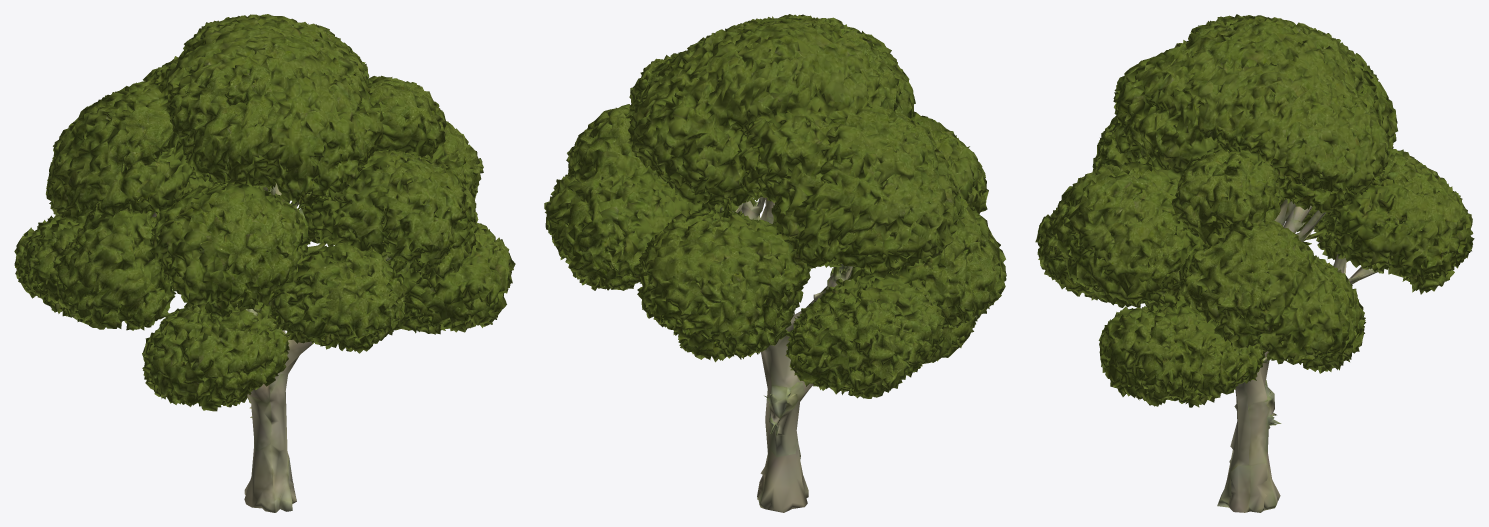
The model's file is haya.glb.
3 renders of one model, left to right at view 1: azimuth 30°, elevation 25°; view 2: azimuth 150°, elevation 25°; view 3: azimuth 270°, elevation 25°, orthographic.
Parts seen in each view (by area): view 1: aligerado; view 2: aligerado; view 3: aligerado.
Boxes of the visible parts, left/top/right/bottom form: aligerado: left=14, top=14, right=515, bottom=512; aligerado: left=544, top=14, right=1006, bottom=512; aligerado: left=1035, top=14, right=1474, bottom=512.
Size of the model in its own units: 9.88 by 10.8 by 9.12.
Materials: 1 (1 with a texture image).
